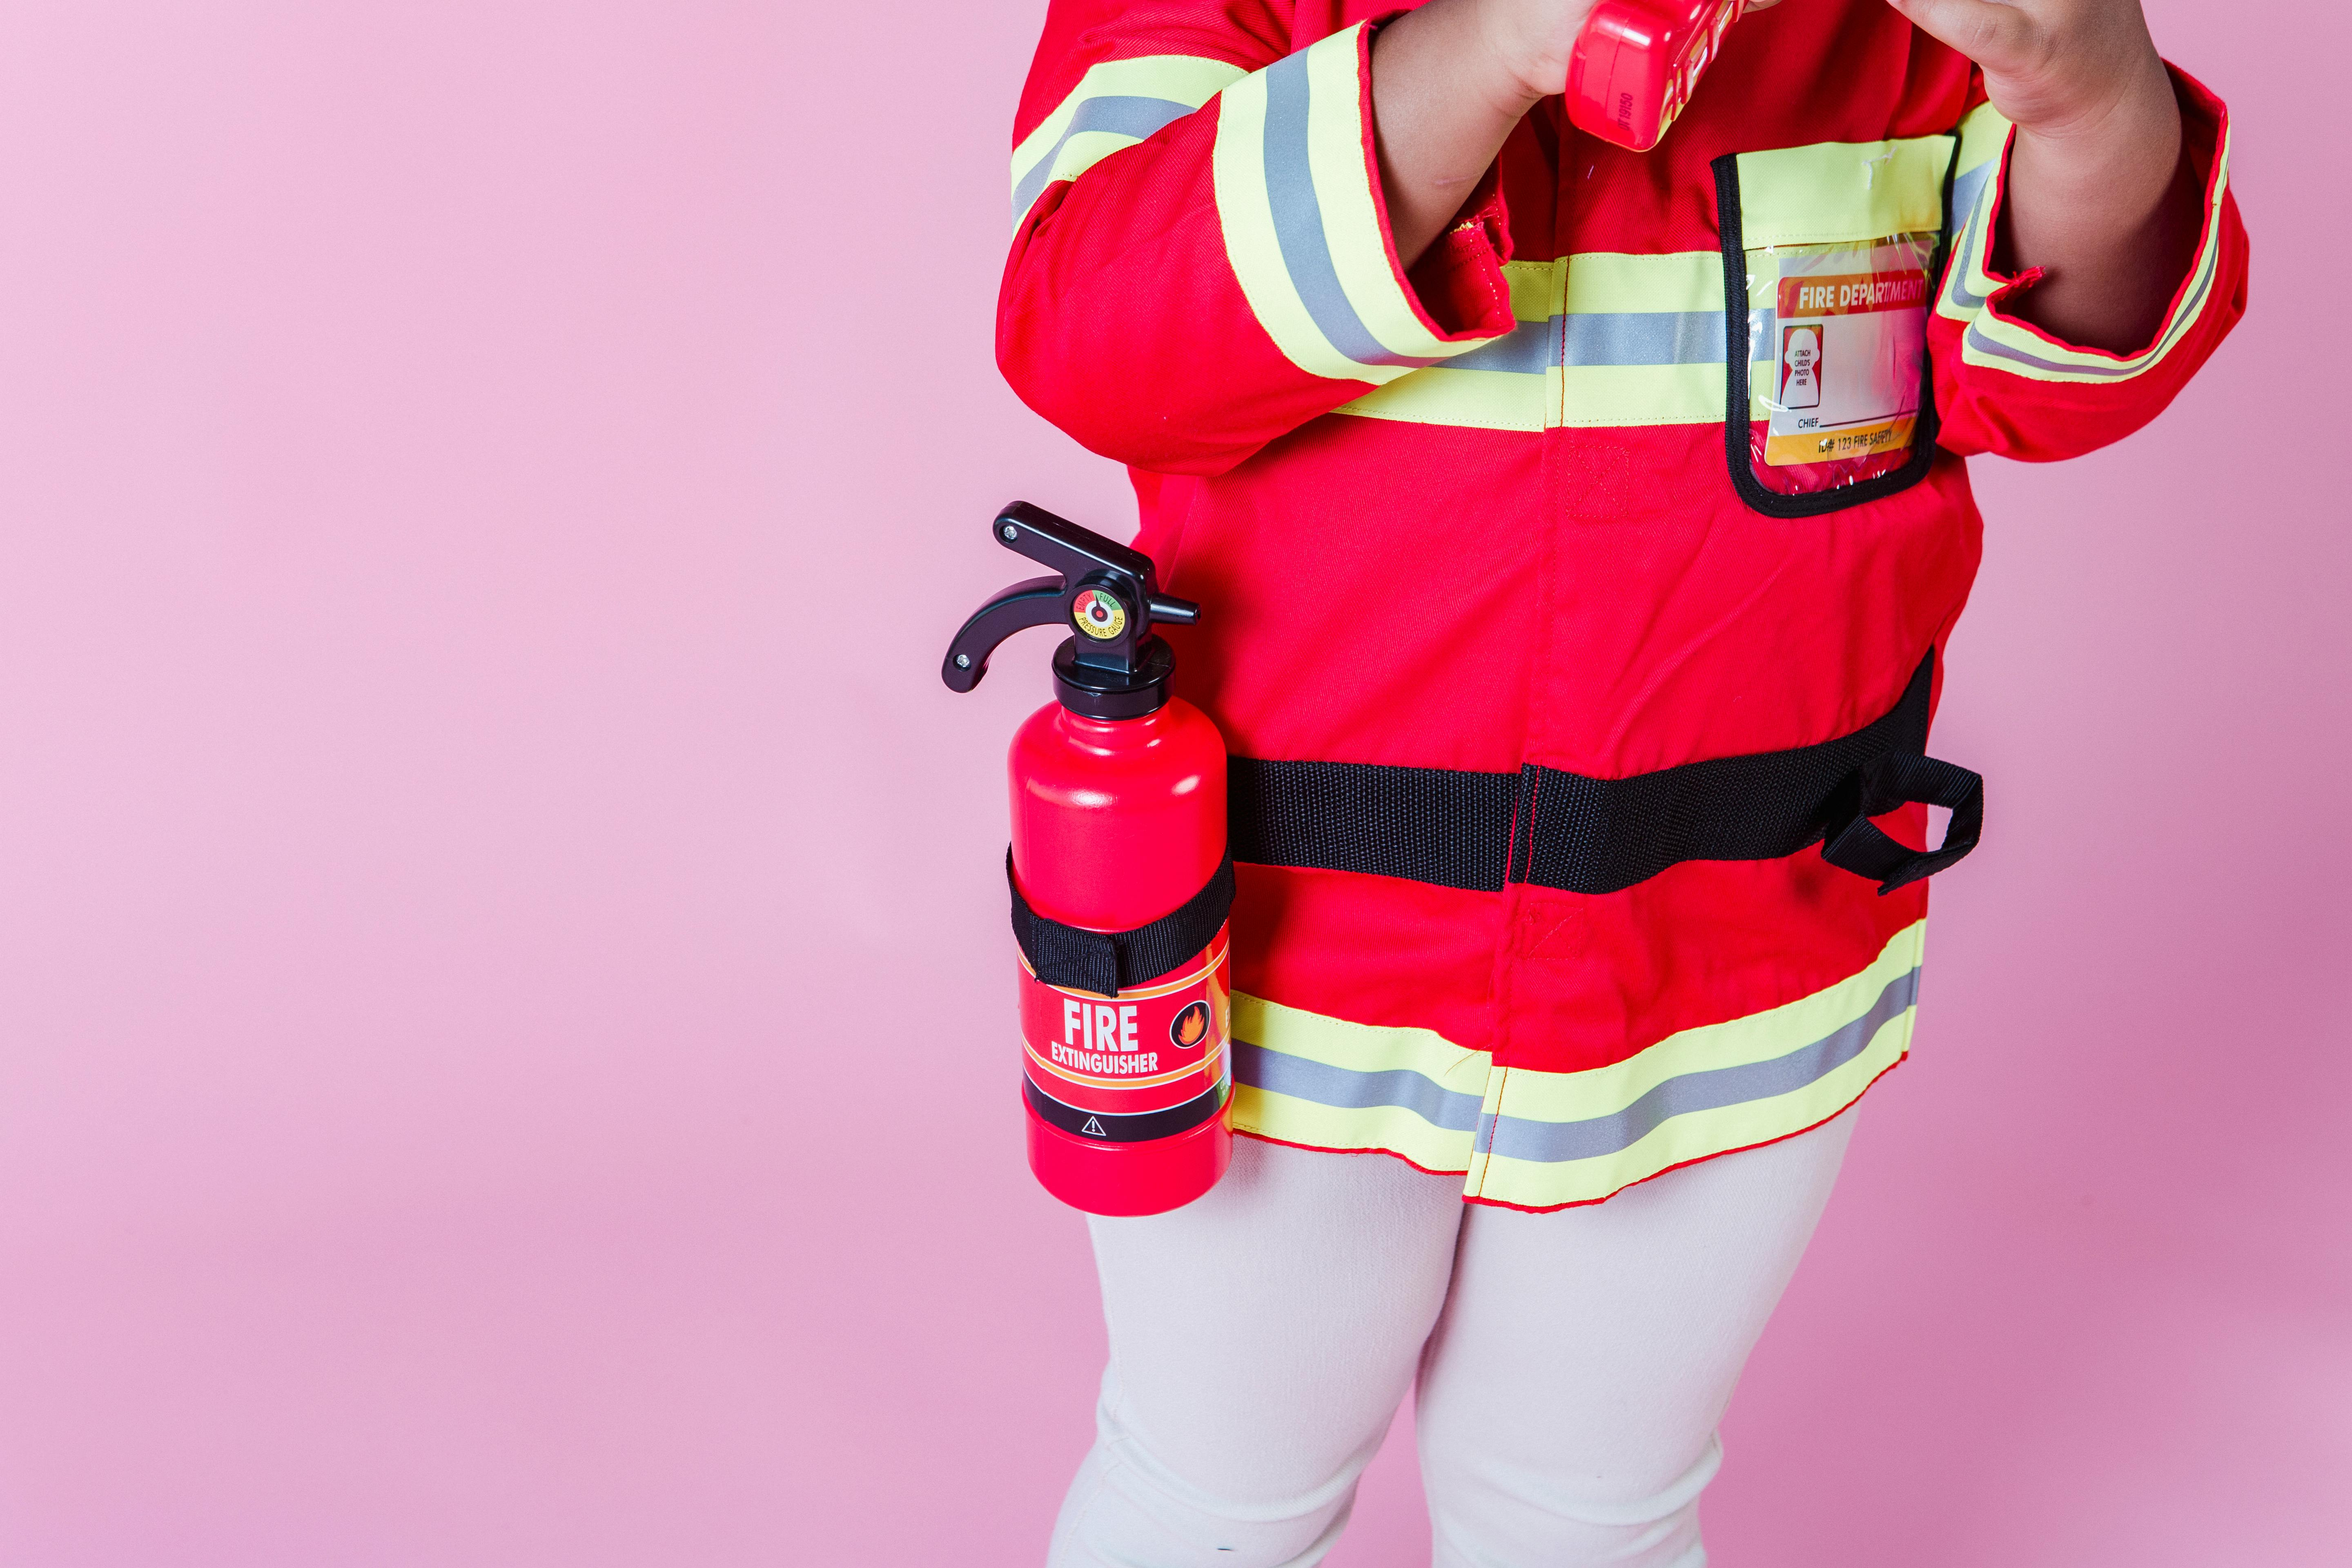extintor: (934, 497, 1235, 1216)
